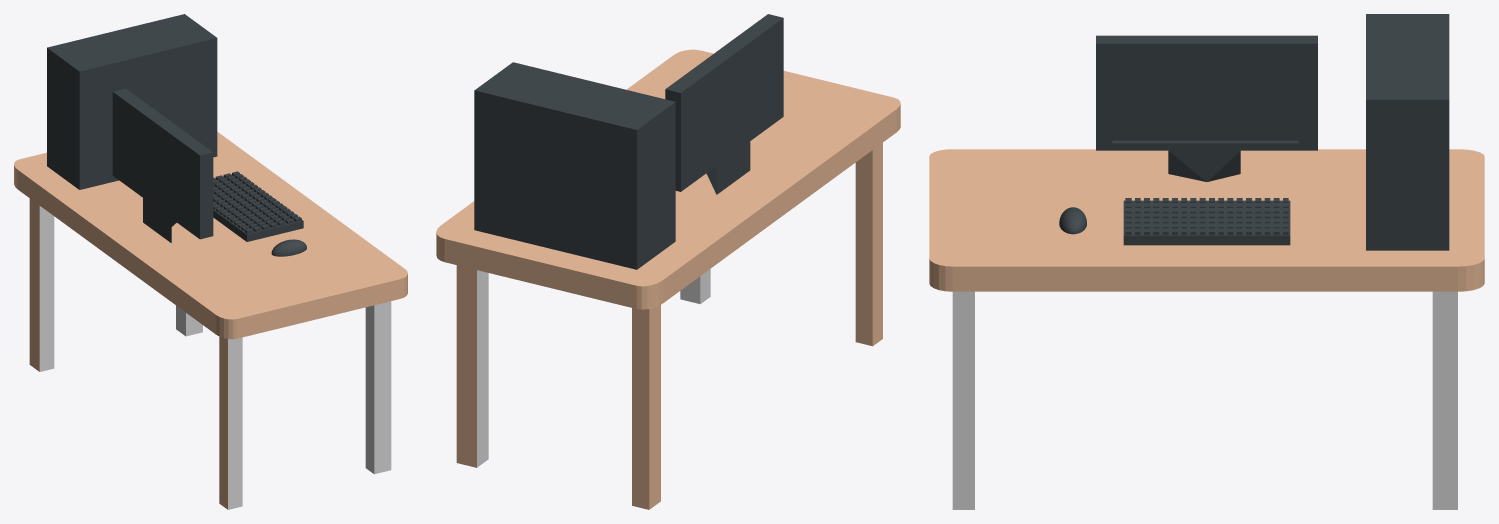
Rendered from Computer Final.fbx.
3 views of the same model, side by side, from view 1: azimuth 30°, elevation 25°; view 2: azimuth 150°, elevation 25°; view 3: azimuth 270°, elevation 25° (orthographic). The views are drawn at different scales.
Parts seen in each view (by area): view 1: Monitor; view 2: Monitor; view 3: Monitor.
Part boxes in pixels (<box>): Monitor: <box>14,14,407,509</box>; Monitor: <box>436,14,900,509</box>; Monitor: <box>929,14,1484,509</box>.
Bounding box in the file's own units: 400 × 200 × 320.
